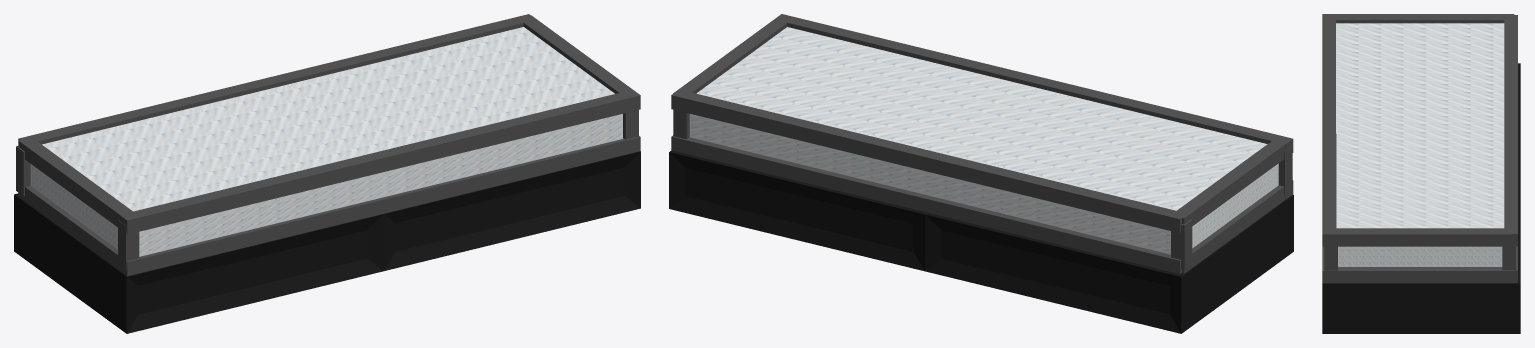
The model's file is Prop_Cabinet.FBX.
3 views of the same model, side by side, from view 1: azimuth 30°, elevation 25°; view 2: azimuth 150°, elevation 25°; view 3: azimuth 270°, elevation 25° (orthographic). The views are drawn at different scales.
Visible parts, largest first — view 1: Prop_Cabinet; view 2: Prop_Cabinet; view 3: Prop_Cabinet.
Part boxes in pixels (x1,y1,x2,y2): Prop_Cabinet: (14,14,640,333); Prop_Cabinet: (669,14,1293,333); Prop_Cabinet: (1322,14,1520,333).
Size of the model in its own units: 2.71 by 0.5703 by 1.03.
